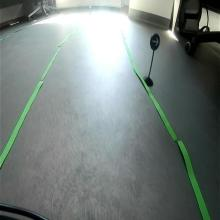right: (149, 32, 161, 51)
